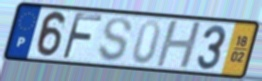0: (130, 18, 163, 67)
3: (195, 23, 228, 71)
6: (35, 10, 68, 60)
F: (59, 11, 104, 61)
H: (154, 20, 204, 69)
S: (96, 16, 134, 64)
